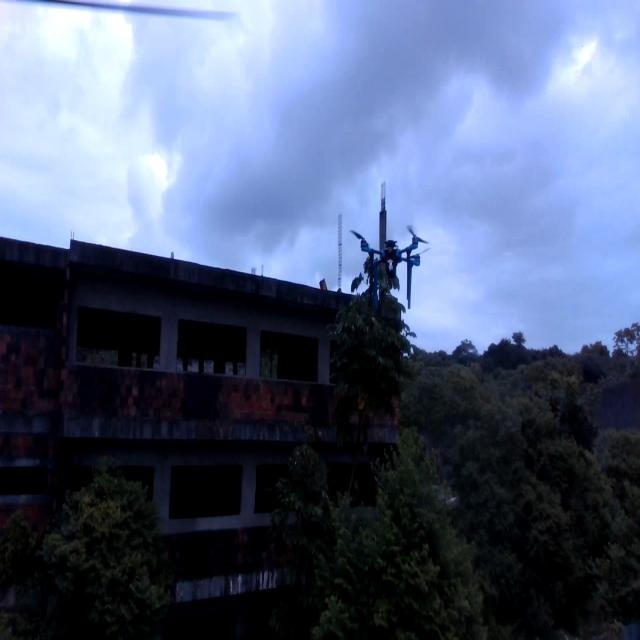-uav-: (340, 210, 442, 318)
